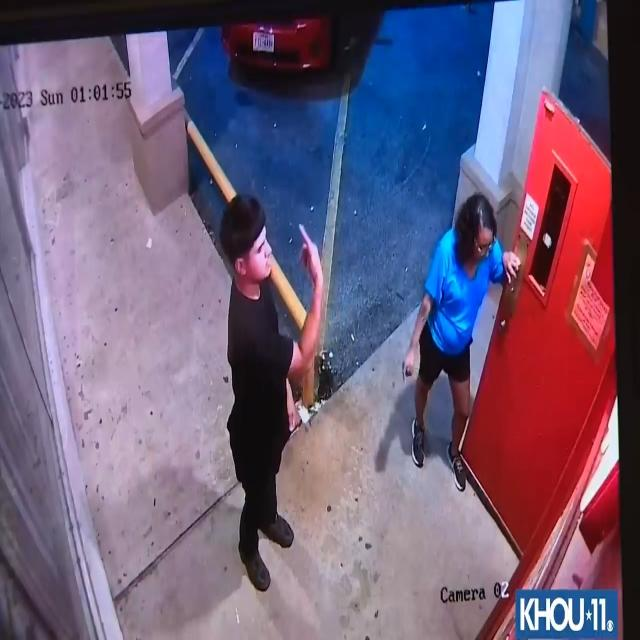Person: (230, 190, 334, 598), (400, 190, 516, 512)
